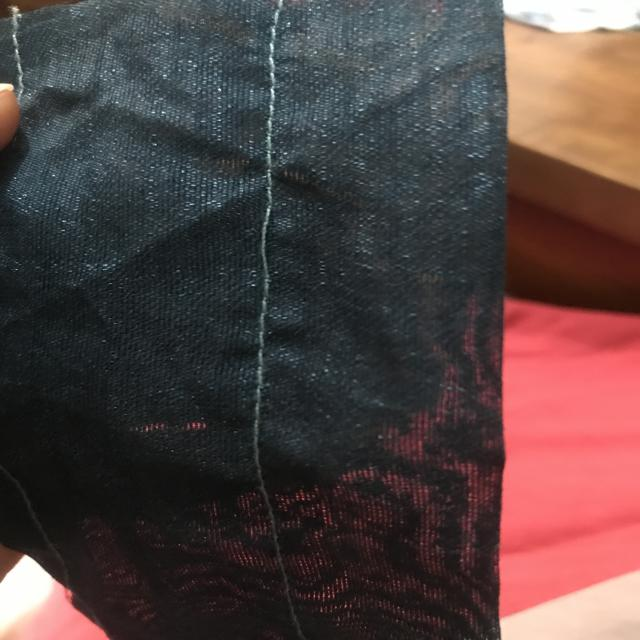good: (252, 48, 293, 158), (248, 329, 280, 430)
skip: (248, 198, 287, 282)
